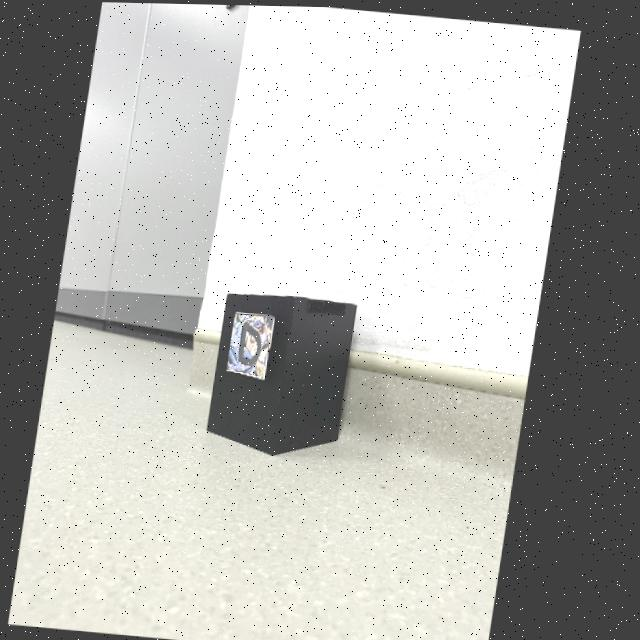D: (244, 321, 267, 365)
